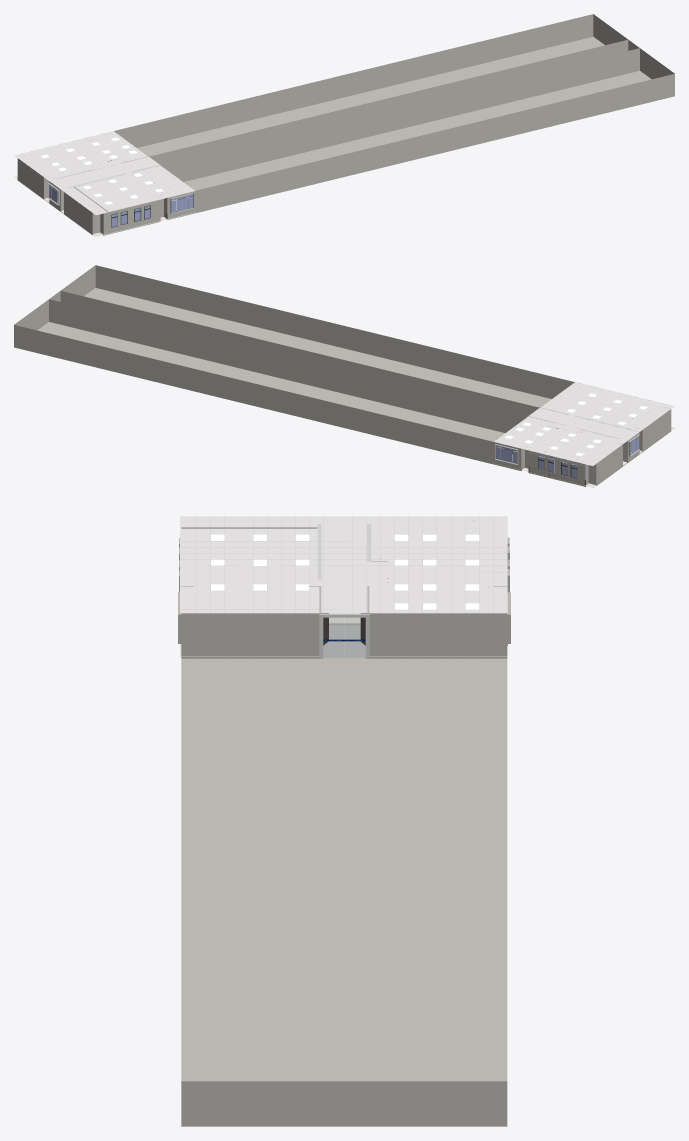
Rendered from 8th_floor.glb.
3 renders of one model, top to bottom at view 1: azimuth 30°, elevation 25°; view 2: azimuth 150°, elevation 25°; view 3: azimuth 270°, elevation 25°, orthographic. The views are drawn at different scales.
Parts seen in each view (by area): view 1: 楼板.005, Plane.016, 楼板.061, 楼板.064, 楼板.049; view 2: 楼板.005, Plane.016, 楼板.046, 楼板.064, 楼板.049, 楼板.042; view 3: 楼板.005, Plane.016, 楼板.056, 楼板.055, 楼板.009, 楼板.080.
Boxes of the visible parts, bbox=[...] form: 楼板.005: bbox=[114, 14, 674, 213]; Plane.016: bbox=[14, 131, 194, 215]; 楼板.061: bbox=[103, 199, 160, 235]; 楼板.064: bbox=[64, 192, 92, 234]; 楼板.049: bbox=[17, 158, 43, 199]; 楼板.005: bbox=[14, 265, 574, 464]; Plane.016: bbox=[494, 382, 674, 465]; 楼板.046: bbox=[528, 450, 585, 486]; 楼板.064: bbox=[642, 409, 671, 451]; 楼板.049: bbox=[596, 444, 622, 485]; 楼板.042: bbox=[493, 442, 521, 470]; 楼板.005: bbox=[181, 658, 507, 1126]; Plane.016: bbox=[180, 516, 507, 613]; 楼板.056: bbox=[178, 613, 321, 658]; 楼板.055: bbox=[367, 613, 507, 658]; 楼板.009: bbox=[319, 613, 369, 658]; 楼板.080: bbox=[323, 625, 365, 658].
Size of the model in its own units: 6.22 by 0.2443 by 1.55.
Materials: 53 (4 with a texture image).
